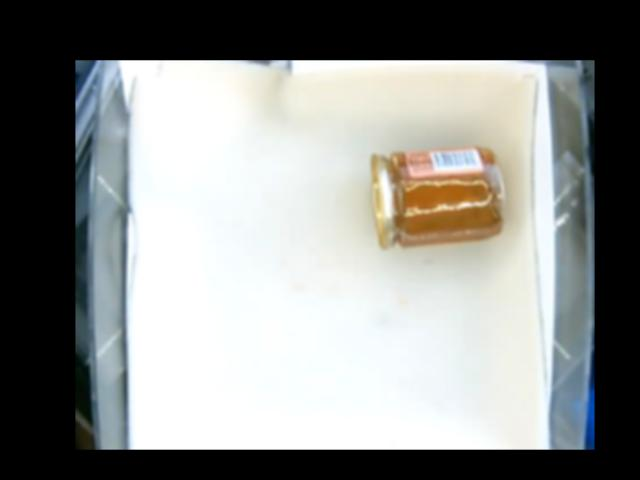Bottle: (370, 146, 505, 250)
